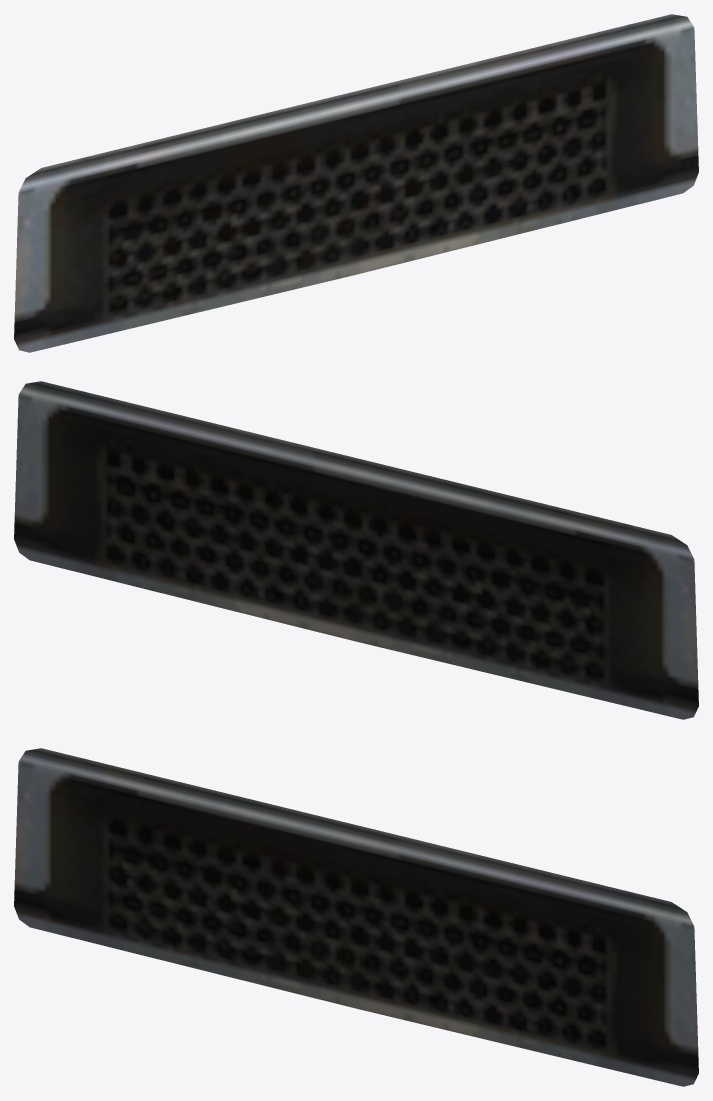
The model's file is part_1_grille.fbx.
The picture shows the model from 3 angles, top to bottom: view 1: azimuth 30°, elevation 25°; view 2: azimuth 150°, elevation 25°; view 3: azimuth 330°, elevation 25°; orthographic projection.
Parts seen in each view (by area): view 1: part_1_grille; view 2: part_1_grille; view 3: part_1_grille.
Part boxes in pixels (bbox=[...]): part_1_grille: bbox=[14, 14, 698, 352]; part_1_grille: bbox=[14, 381, 698, 719]; part_1_grille: bbox=[14, 748, 698, 1086].
Bounding box in the file's own units: 55.62 × 14.25 × 1.08e-06.
